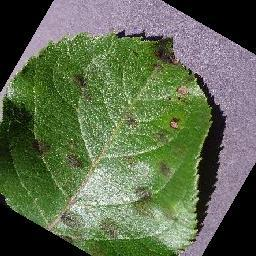apple healthy: (0, 29, 215, 255)
